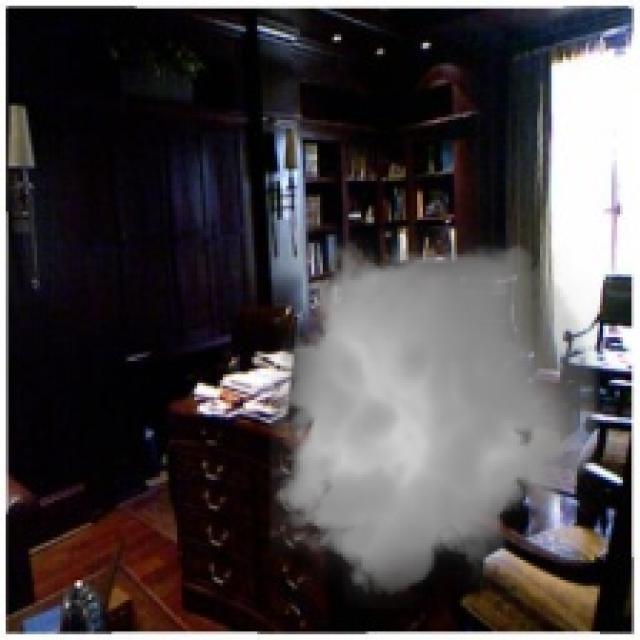Smoke: (254, 226, 612, 608)
